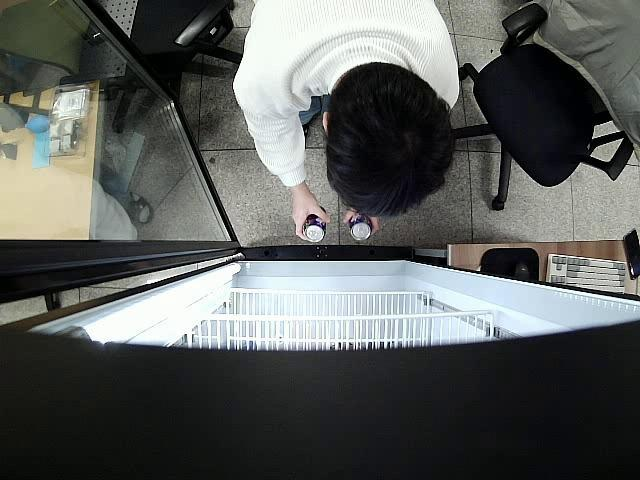14_welchsGrape: (303, 208, 326, 243), (350, 212, 372, 241)
